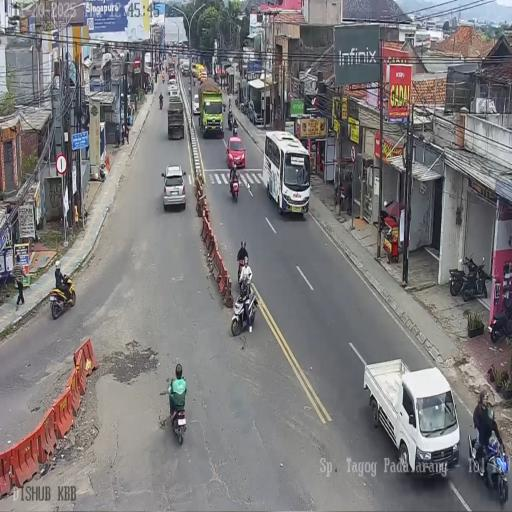3: (358, 354, 454, 469), (199, 85, 223, 138), (167, 95, 185, 139), (181, 58, 190, 75), (144, 52, 151, 72), (172, 57, 176, 68)
car: (260, 128, 307, 216), (162, 163, 187, 211), (226, 136, 246, 169), (248, 98, 261, 124), (192, 93, 200, 116), (192, 63, 202, 79), (168, 73, 176, 86), (200, 71, 207, 84)
truck: (449, 251, 488, 301), (230, 282, 258, 338), (164, 378, 186, 446), (50, 274, 76, 319), (489, 292, 511, 342), (229, 166, 239, 202), (241, 98, 249, 116), (227, 110, 233, 130), (232, 121, 238, 136), (159, 97, 163, 109), (235, 97, 238, 108), (193, 77, 195, 87)
